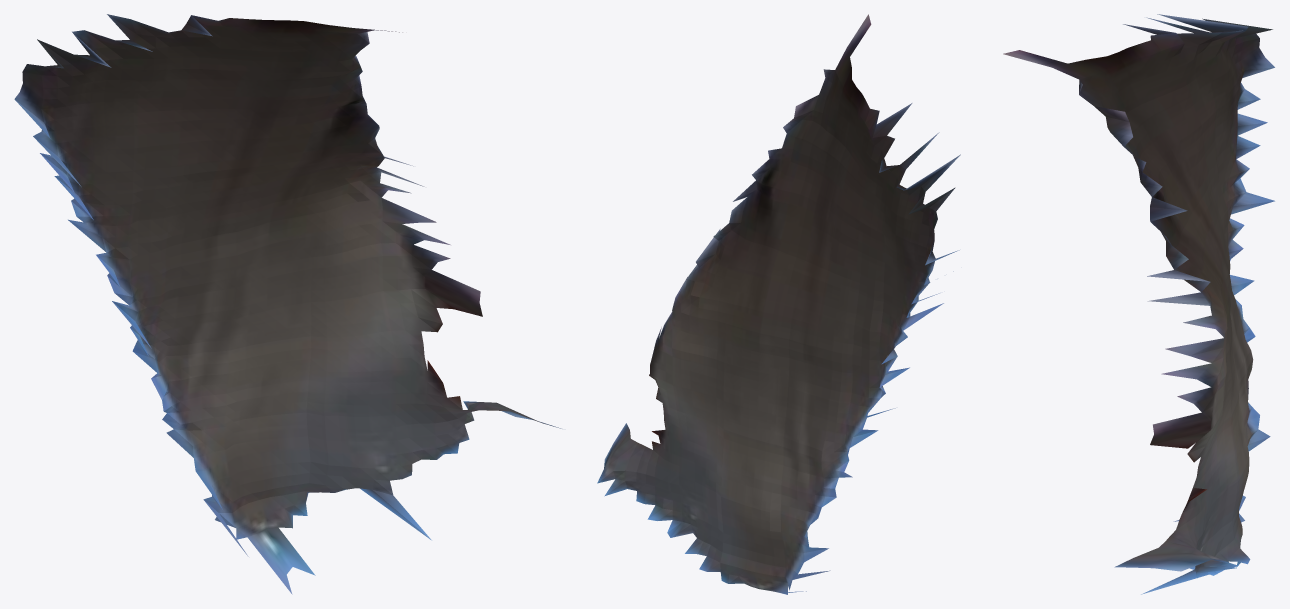
The model's file is observed-surface.glb.
The picture shows the model from 3 angles, left to right: view 1: azimuth 30°, elevation 25°; view 2: azimuth 150°, elevation 25°; view 3: azimuth 270°, elevation 25°; orthographic projection. The views are drawn at different scales.
Visible parts, largest first — view 1: geometry_0; view 2: geometry_0; view 3: geometry_0.
Boxes of the visible parts, x1=… form: geometry_0: x1=14, y1=14, x2=561, y2=594; geometry_0: x1=597, y1=14, x2=960, y2=594; geometry_0: x1=1003, y1=14, x2=1274, y2=594.
Bounding box in the file's own units: 0.3521 × 0.4547 × 0.2151.
Materials: 1 (1 with a texture image).
